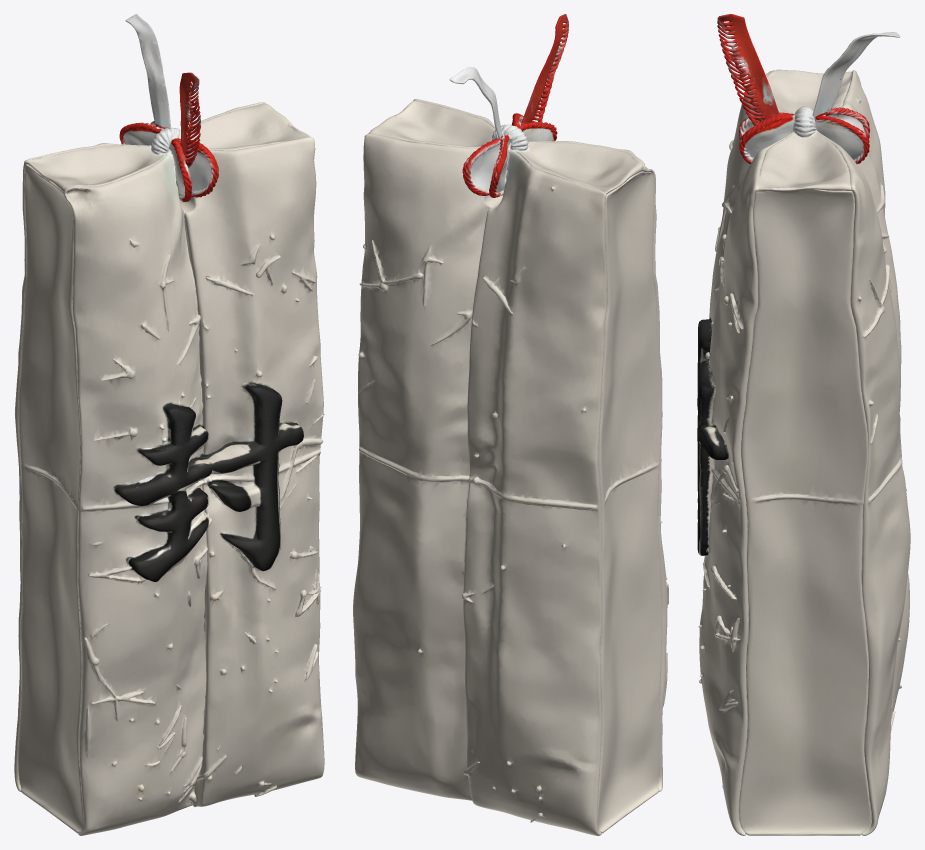
The model's file is tripo_convert_c3c0d90b-6b56-493f-aacf-2d492f3868be.fbx.
The picture shows the model from 3 angles, left to right: view 1: azimuth 30°, elevation 25°; view 2: azimuth 150°, elevation 25°; view 3: azimuth 270°, elevation 25°; orthographic projection.
Parts seen in each view (by area): view 1: tripo_node_c3c0d90b; view 2: tripo_node_c3c0d90b; view 3: tripo_node_c3c0d90b.
Part boxes in pixels (box(x1,y1,x2,y2)): tripo_node_c3c0d90b: box(14, 14, 324, 835); tripo_node_c3c0d90b: box(353, 14, 668, 835); tripo_node_c3c0d90b: box(697, 14, 910, 835).
Bounding box in the file's own units: 0.3357 × 0.9849 × 0.2509.
Materials: 1 (1 with a texture image).
